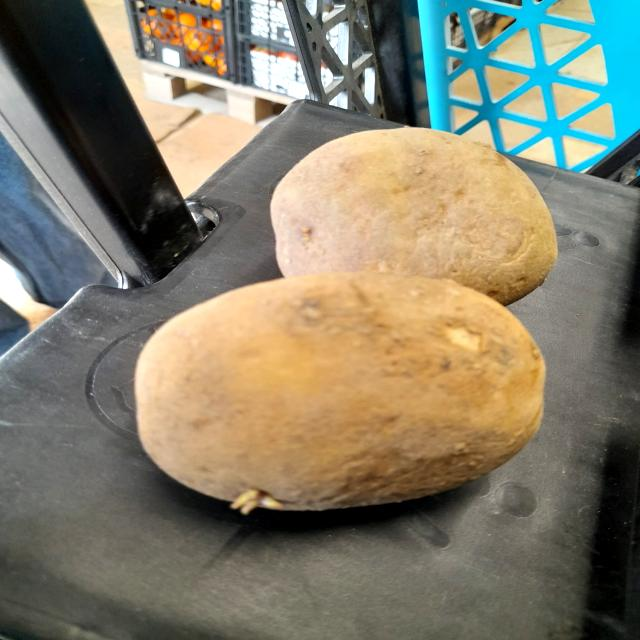potato: (116, 277, 572, 528), (270, 110, 568, 313)
